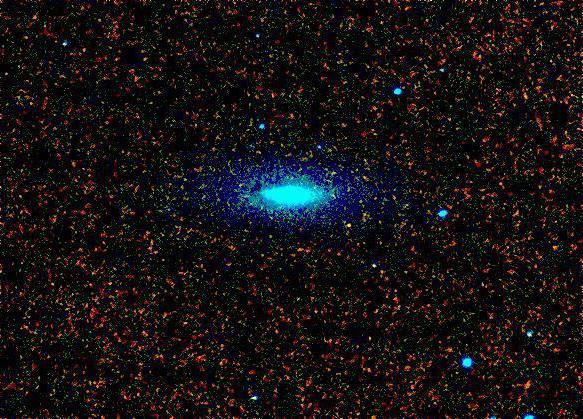star: (335, 210, 365, 240)
